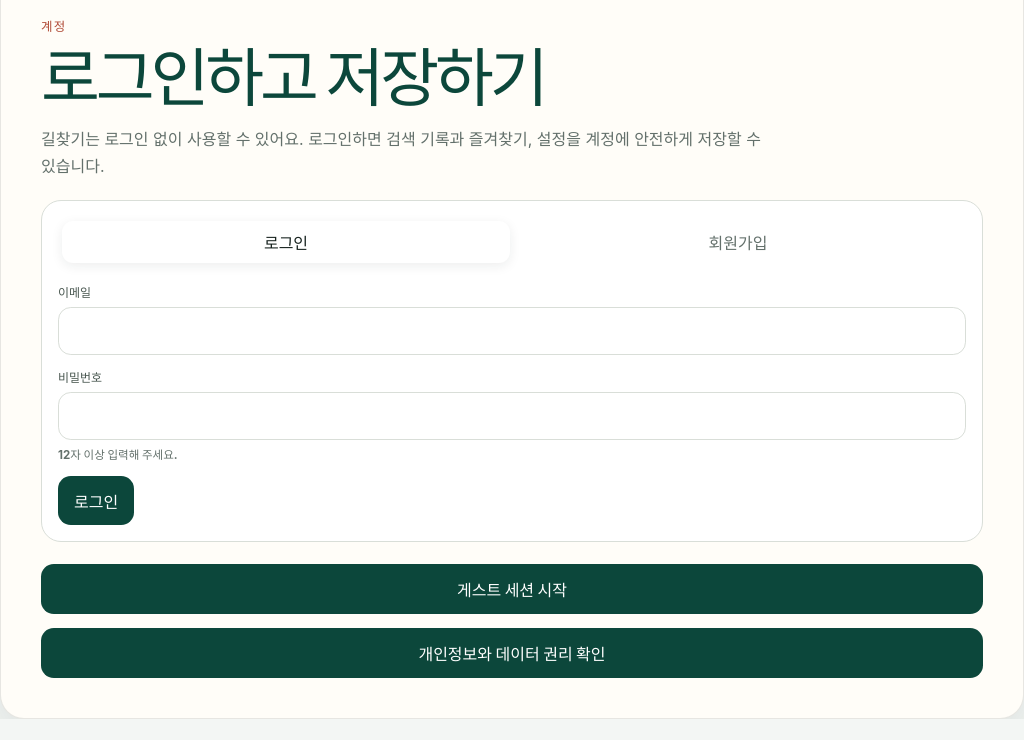
Test: AccountPage registration › does not submit when required privacy acceptance is absent even if native validation is bypassed
Step 1. Click the tab "회원가입" → coordinates (738, 242), box [514, 221, 962, 264]
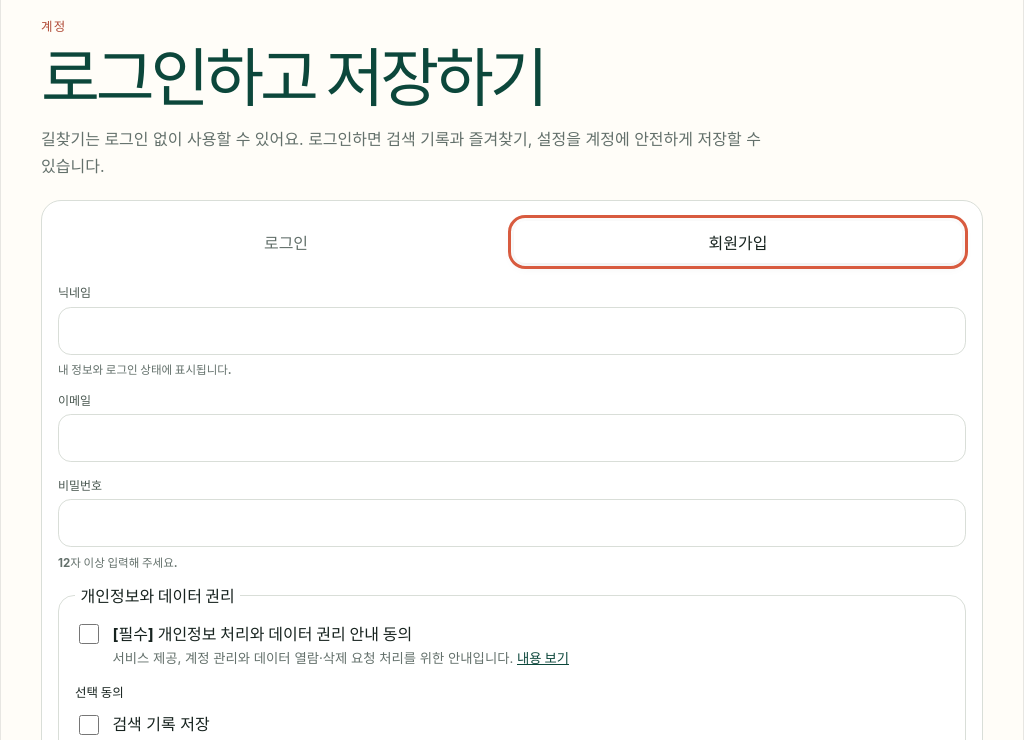
Step 2. Type "새사용자" into the field labelled "닉네임 내 정보와 로그인 상태에 표시됩니다." → coordinates (512, 331), box [58, 307, 966, 355]
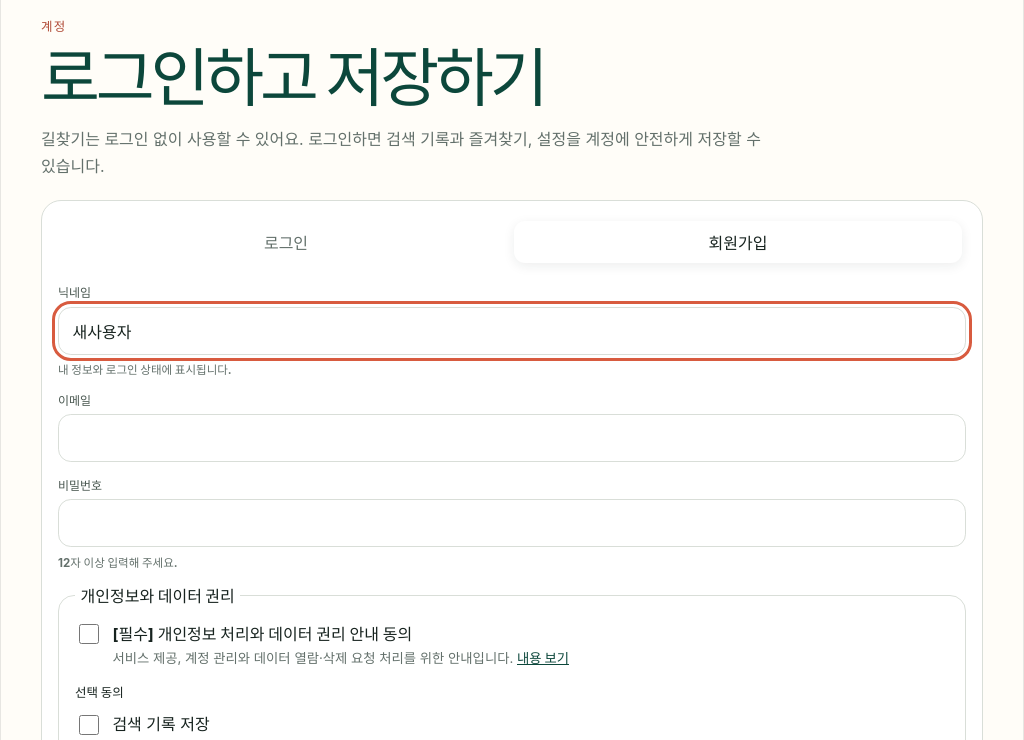
Step 3. Type "new-user@example.com" into the field labelled "이메일" → coordinates (512, 438), box [58, 414, 966, 462]
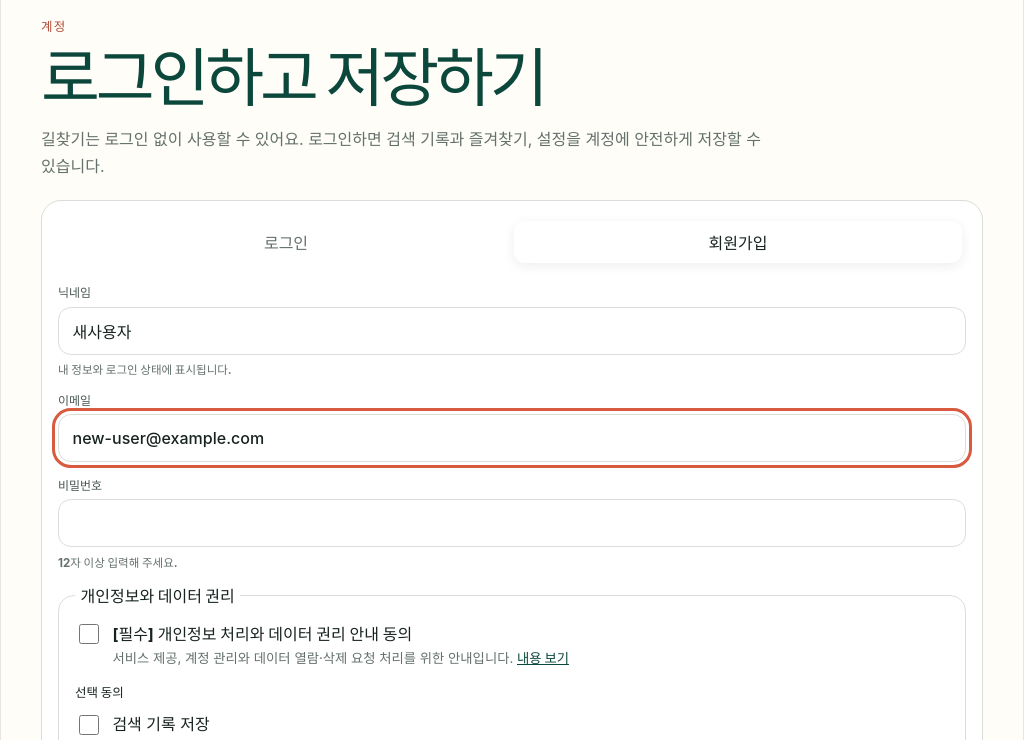
Step 4. Type "correct-horse-battery-staple" into the password field labelled "비밀번호 12자 이상 입력해 주세요." → coordinates (512, 523), box [58, 499, 966, 547]
(page scrolled)
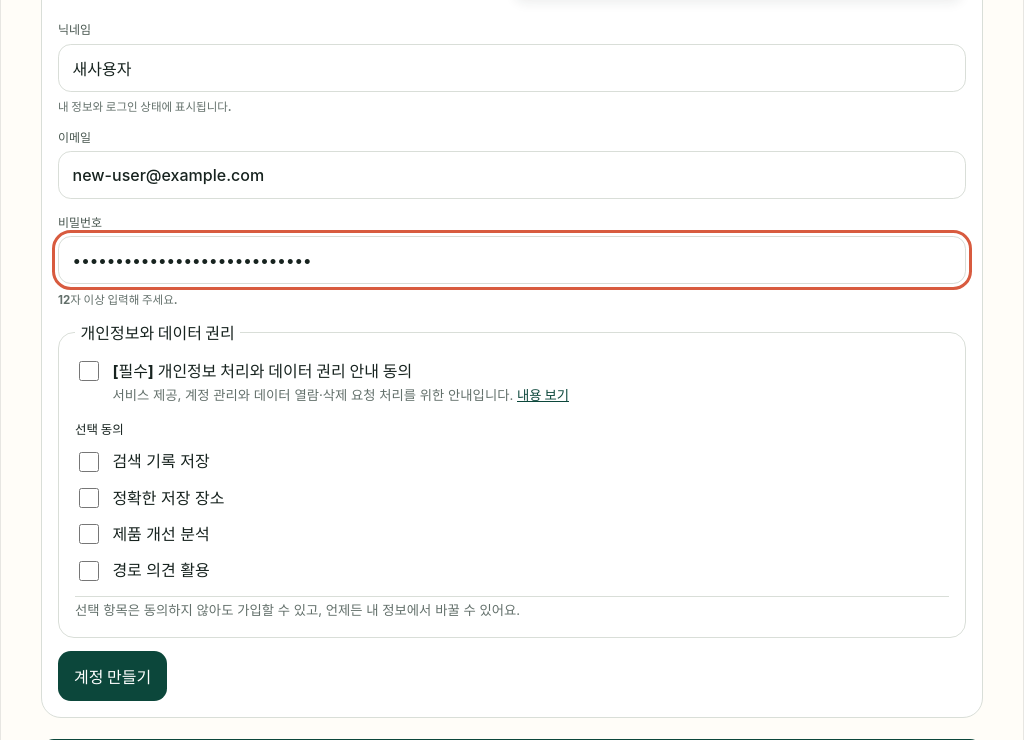
Step 5. Submit the form named "계정 만들기"
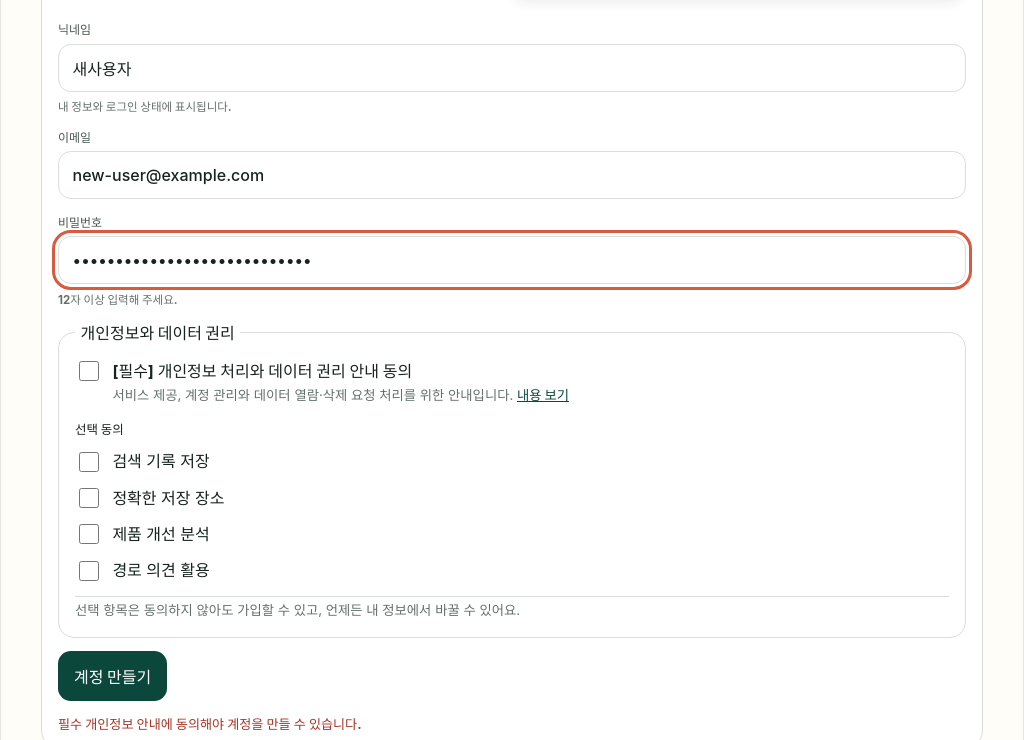
Now the text "필수 개인정보 안내에 동의해야 계정을 만들 수 있습니다." is shown, box [58, 716, 362, 732]
